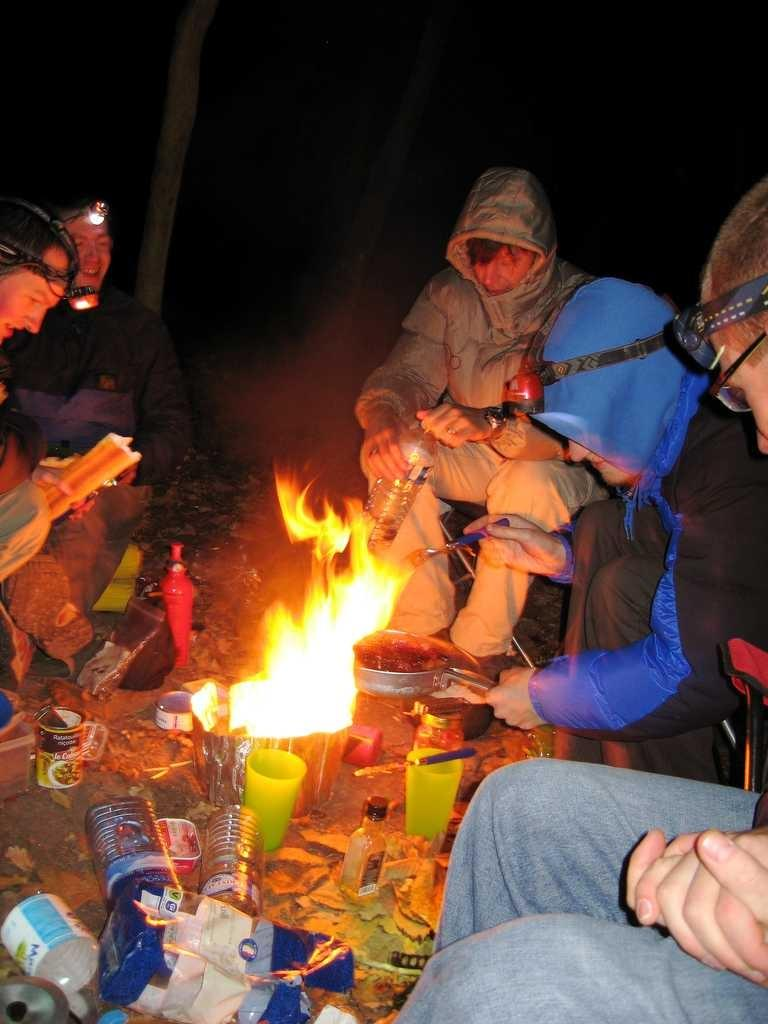fire: (252, 640, 348, 735), (318, 588, 380, 632)
